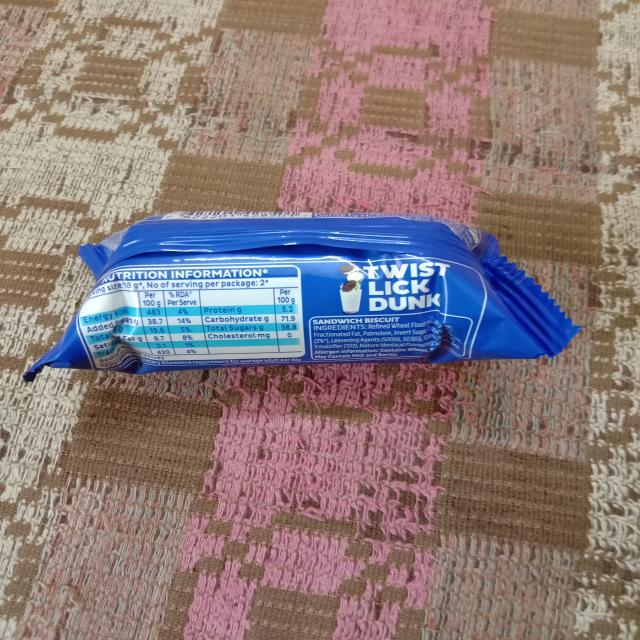oreo biscuit: (25, 209, 584, 379)
